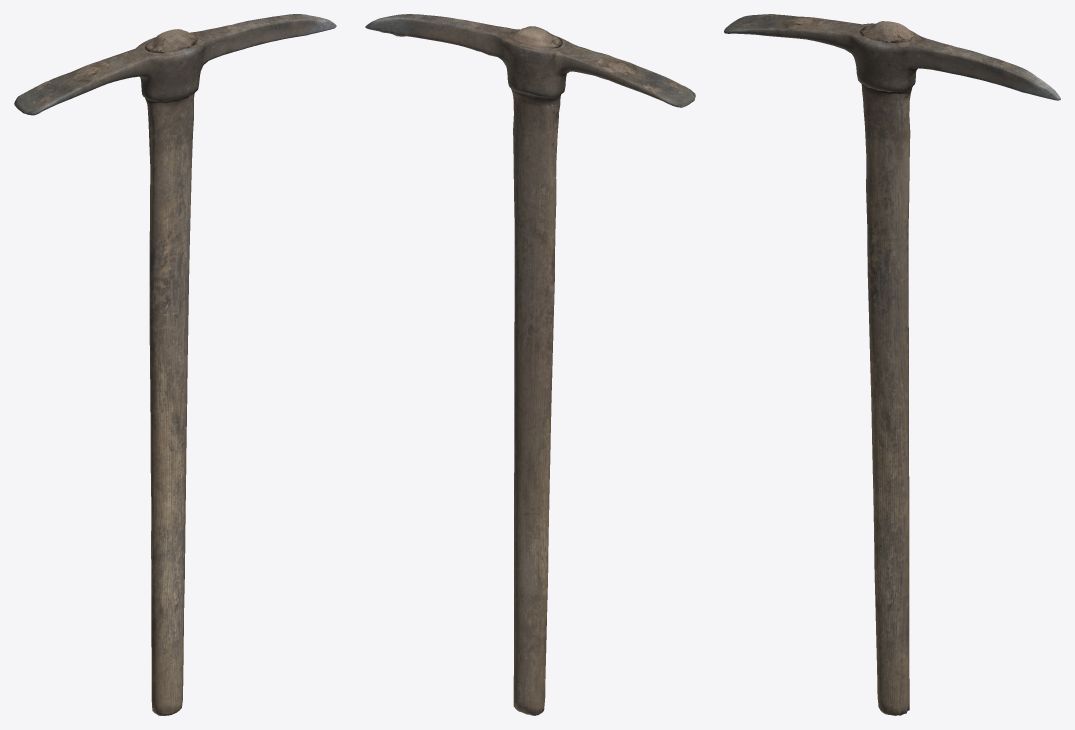
Rendered from picke_dirty_01.glb.
3 views of the same model, side by side, from view 1: azimuth 30°, elevation 25°; view 2: azimuth 150°, elevation 25°; view 3: azimuth 330°, elevation 25° (orthographic).
Parts seen in each view (by area): view 1: picke_dirty_01; view 2: picke_dirty_01; view 3: picke_dirty_01.
Boxes of the visible parts, left/top/right/bottom form: picke_dirty_01: left=14, top=14, right=336, bottom=715; picke_dirty_01: left=365, top=14, right=695, bottom=715; picke_dirty_01: left=724, top=14, right=1060, bottom=715.
Size of the model in its own units: 0.5498 by 1.12 by 0.0691.
Materials: 1 (1 with a texture image).
